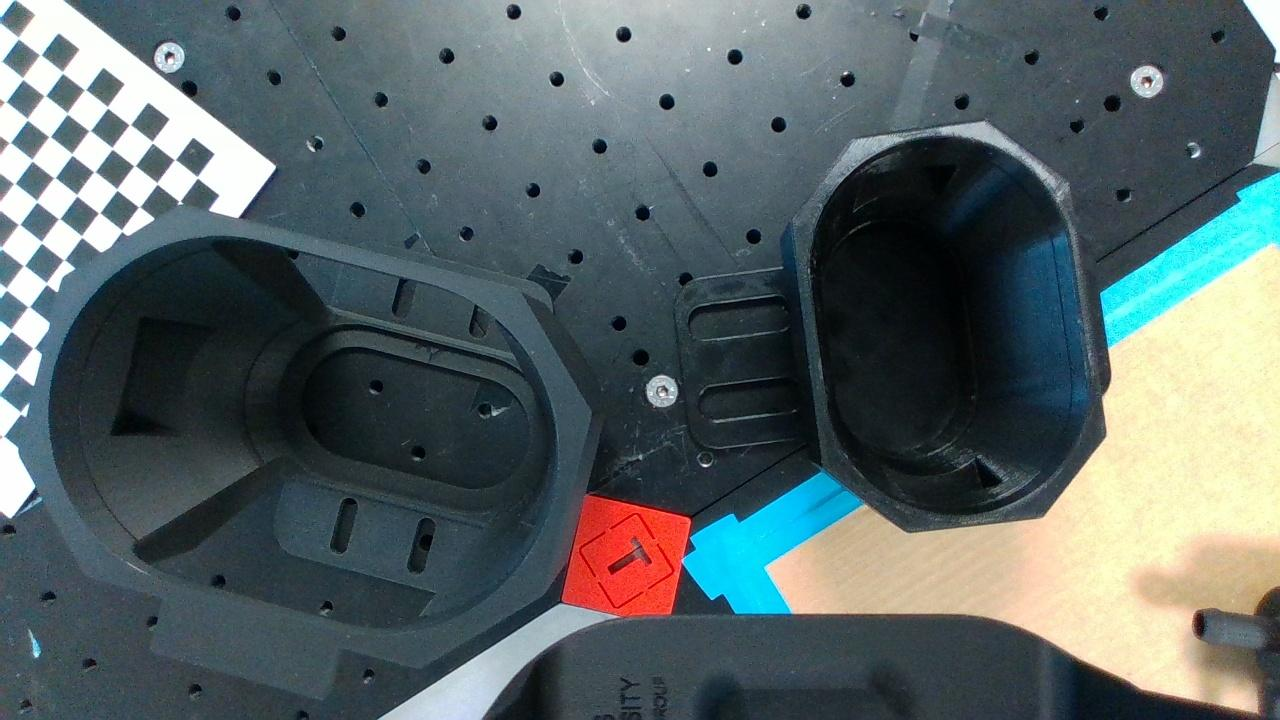big_interface: (19, 203, 593, 671)
small_interface: (791, 119, 1108, 534)
